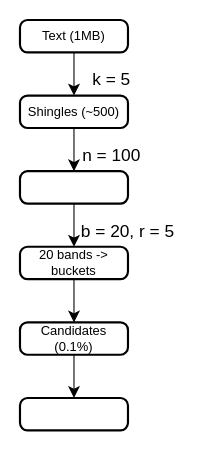
This 200x449 diagram has some shape labels left out. The centre of each missing label's shape, as x and y in pixels:
MinHash: pixel 73 187
Verify Jaccard => top-k: pixel 73 413
